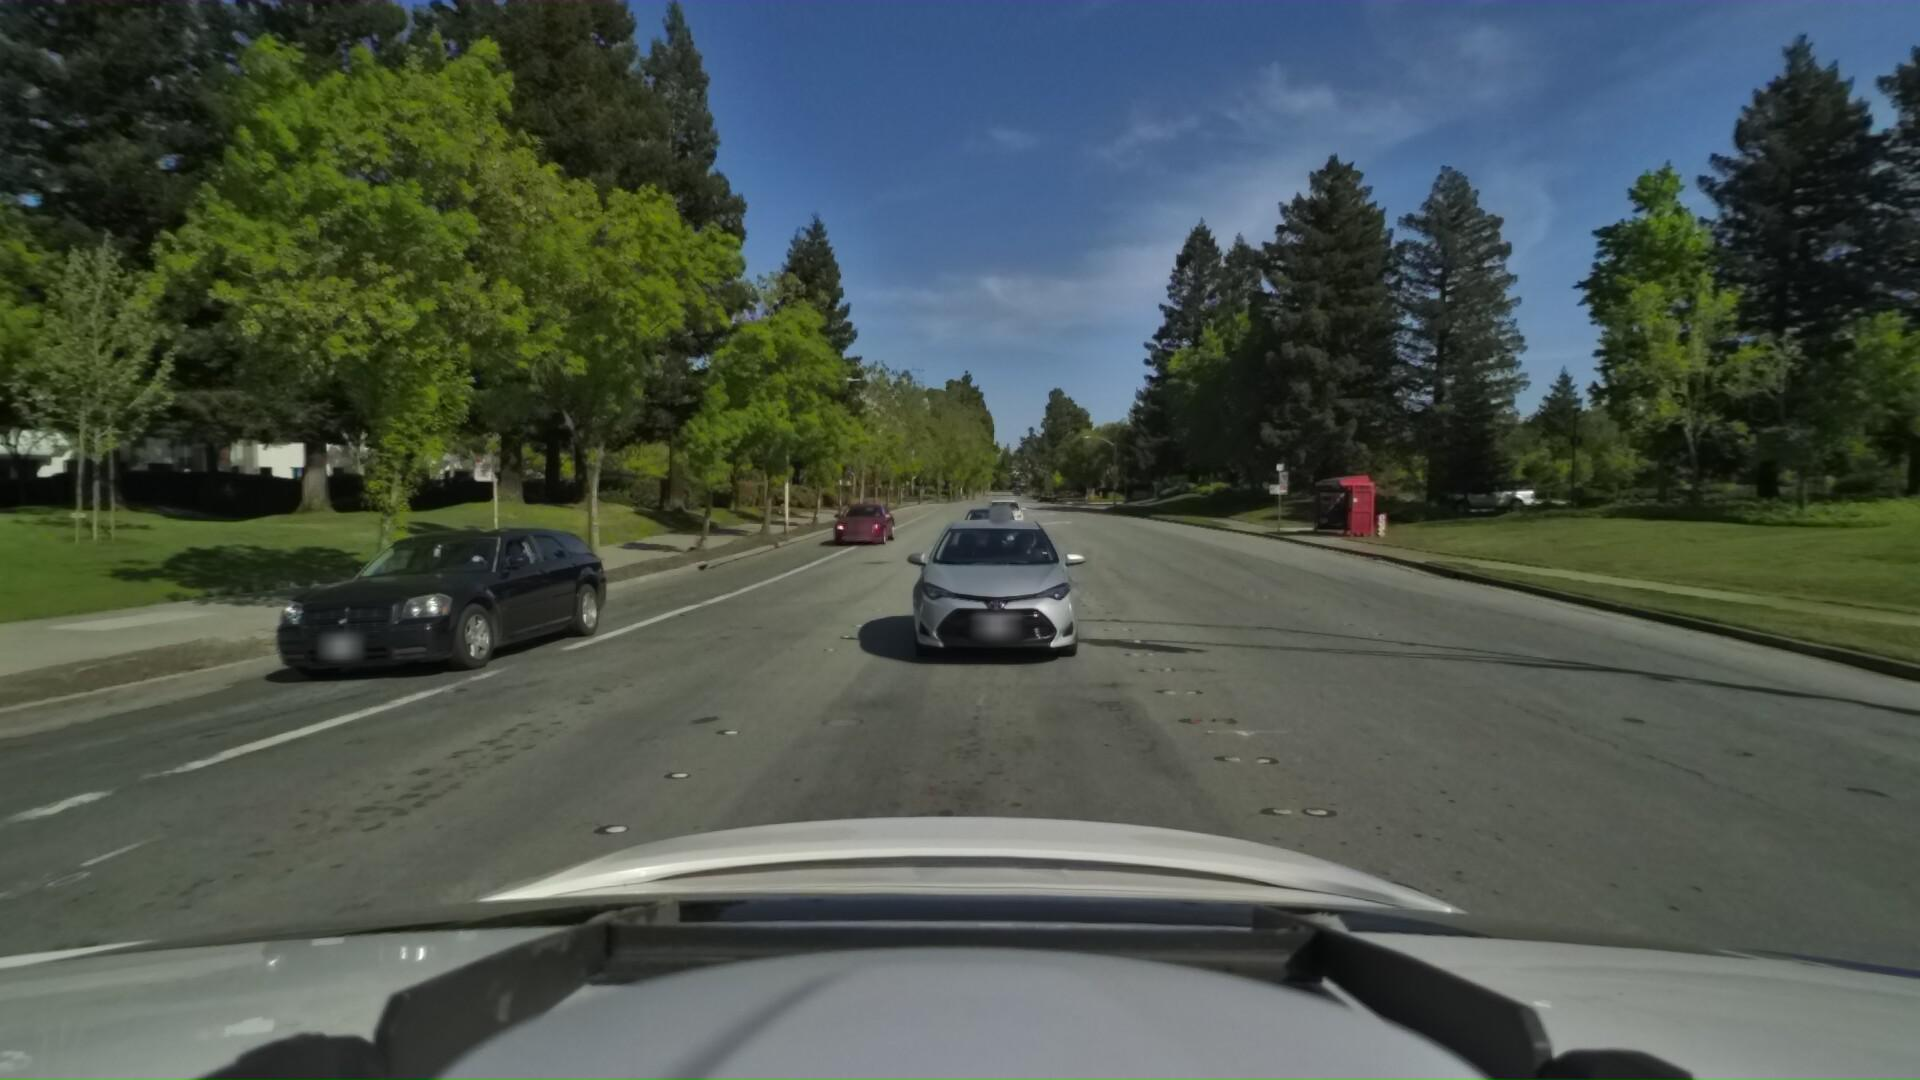car: (265, 512, 632, 688), (897, 502, 1088, 675), (1424, 475, 1549, 510), (957, 501, 1025, 559), (829, 498, 895, 547), (994, 493, 1031, 527)
